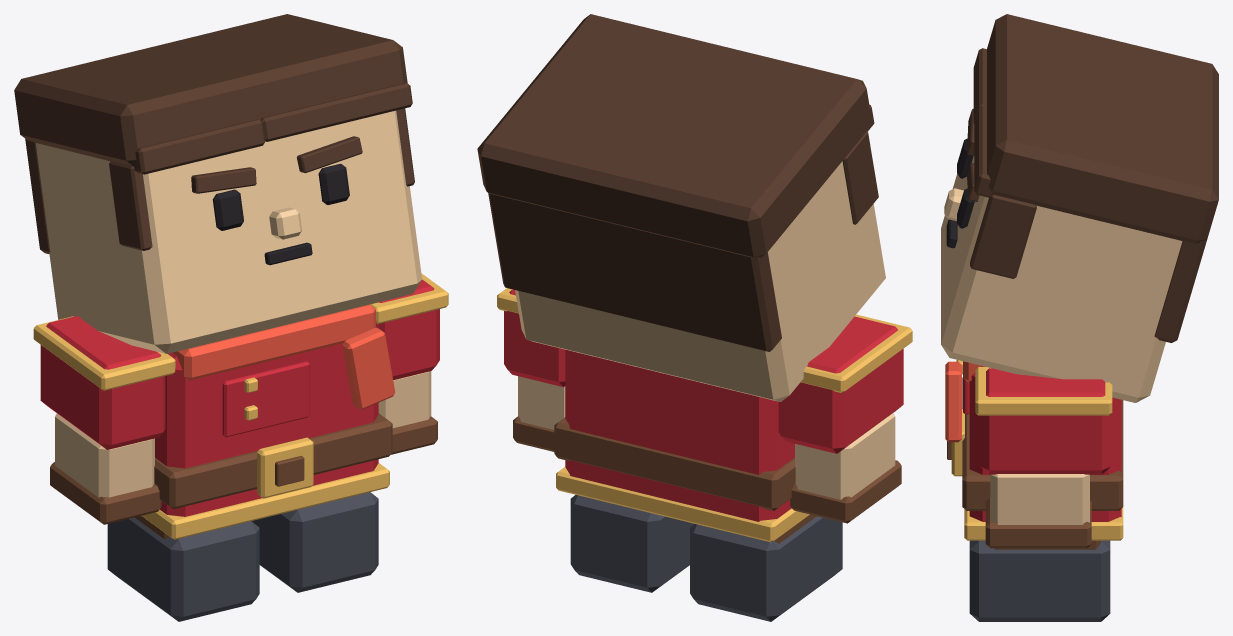
Rendered from BlockHero.fbx.
3 renders of one model, left to right at view 1: azimuth 30°, elevation 25°; view 2: azimuth 150°, elevation 25°; view 3: azimuth 270°, elevation 25°, orthographic. The views are drawn at different scales.
Parts seen in each view (by area): view 1: Head, HairCap, Tunic, LeftBoot, LeftSleeve, RightBoot, Belt, Collar, LeftArm, TunicHem, ChestPanel, FringeRight (+19 smaller); view 2: HairCap, Head, HairBack, Tunic, LeftBoot, LeftSleeve, RightBoot, Belt, LeftArm, TunicHem, RightSleeve, LeftWristWrap (+4 smaller); view 3: HairCap, Head, RightBoot, RightSleeve, RightArm, Sideburn.001, RightShoulderTrim, Belt, RightWristWrap, HairBack, Tunic, ScarfTail (+7 smaller).
Part boxes in pixels (x1,y1,x2,y2): Head: [36, 110, 422, 353]; HairCap: [14, 14, 407, 166]; Tunic: [155, 320, 378, 516]; LeftBoot: [107, 517, 259, 621]; LeftSleeve: [40, 316, 165, 449]; RightBoot: [251, 492, 378, 592]; Belt: [154, 413, 392, 509]; Collar: [173, 304, 375, 380]; LeftArm: [55, 413, 154, 497]; TunicHem: [141, 463, 389, 539]; ChestPanel: [222, 361, 309, 437]; FringeRight: [260, 82, 412, 141]; HairCap: [477, 14, 872, 257]; Head: [515, 161, 885, 401]; HairBack: [488, 192, 781, 351]; Tunic: [565, 349, 794, 521]; LeftBoot: [690, 516, 842, 621]; LeftSleeve: [778, 316, 903, 453]; RightBoot: [570, 495, 694, 592]; Belt: [554, 417, 795, 510]; LeftArm: [795, 413, 895, 499]; TunicHem: [556, 467, 809, 542]; RightSleeve: [504, 289, 565, 387]; LeftWristWrap: [790, 460, 901, 523]; HairCap: [986, 14, 1218, 243]; Head: [941, 156, 1182, 402]; RightBoot: [969, 540, 1110, 621]; RightSleeve: [980, 368, 1111, 474]; RightArm: [990, 474, 1089, 524]; Sideburn.001: [970, 194, 1036, 278]; RightShoulderTrim: [975, 367, 1112, 415]; Belt: [962, 377, 1123, 510]; RightWristWrap: [985, 498, 1091, 548]; HairBack: [1154, 239, 1207, 342]; Tunic: [969, 366, 1121, 521]; ScarfTail: [945, 361, 961, 442].
Size of the model in its own units: 105 by 149 by 75.08.
